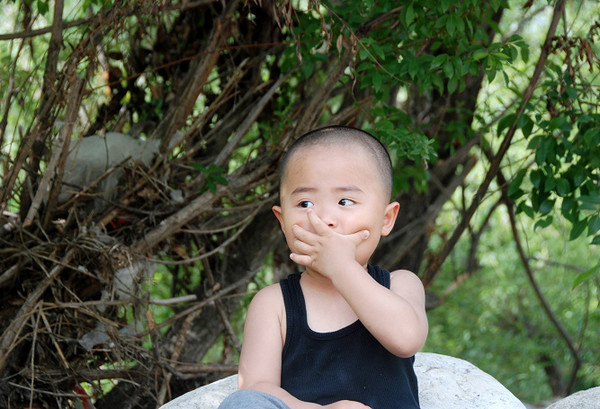face: (280, 149, 382, 276)
